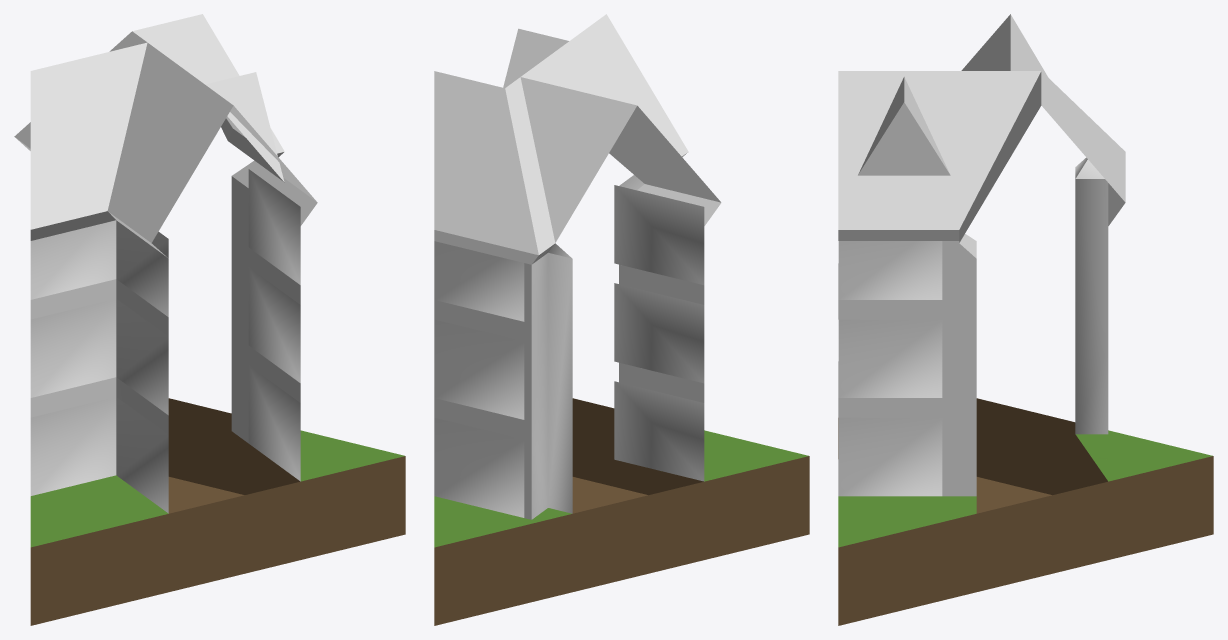
Rendered from Pis_Interseccio_PE_PE_PE.fbx.
3 renders of one model, left to right at view 1: azimuth 30°, elevation 25°; view 2: azimuth 150°, elevation 25°; view 3: azimuth 270°, elevation 25°, orthographic.
Parts seen in each view (by area): view 1: Pis_Interseccio_PE_PE_PE, DetallParet.057, DetallParet.056, DetallParet.058, DetallParet.051, DetallParet.050, DetallParet.052, DetallParet.054, DetallParet.055, DetallTeulada.032, DetallParet.053; view 2: Pis_Interseccio_PE_PE_PE, DetallParet.056, DetallParet.057, DetallParet.058, DetallParet.059, DetallParet.060, DetallParet.061, DetallTeulada.032; view 3: Pis_Interseccio_PE_PE_PE, DetallParet.051, DetallParet.050, DetallParet.052, DetallTeulada.032.
Part boxes in pixels (box(x1,y1,x2,y2)): Pis_Interseccio_PE_PE_PE: box(14, 14, 405, 625); DetallParet.057: box(30, 299, 116, 397); DetallParet.056: box(30, 397, 116, 495); DetallParet.058: box(30, 220, 116, 299); DetallParet.051: box(248, 365, 300, 481); DetallParet.050: box(248, 267, 300, 382); DetallParet.052: box(248, 169, 300, 284); DetallParet.054: box(117, 299, 168, 415); DetallParet.055: box(117, 397, 168, 513); DetallTeulada.032: box(205, 72, 284, 182); DetallParet.053: box(117, 221, 168, 316); Pis_Interseccio_PE_PE_PE: box(434, 14, 809, 625); DetallParet.056: box(614, 381, 704, 481); DetallParet.057: box(614, 283, 704, 383); DetallParet.058: box(614, 185, 704, 285); DetallParet.059: box(434, 417, 524, 517); DetallParet.060: box(434, 319, 524, 419); DetallParet.061: box(434, 241, 524, 321); DetallTeulada.032: box(503, 28, 568, 87); Pis_Interseccio_PE_PE_PE: box(838, 14, 1213, 625); DetallParet.051: box(838, 417, 942, 496); DetallParet.050: box(838, 319, 942, 397); DetallParet.052: box(838, 241, 942, 299); DetallTeulada.032: box(858, 77, 950, 175).
Size of the model in its own units: 100 by 120 by 86.6.
